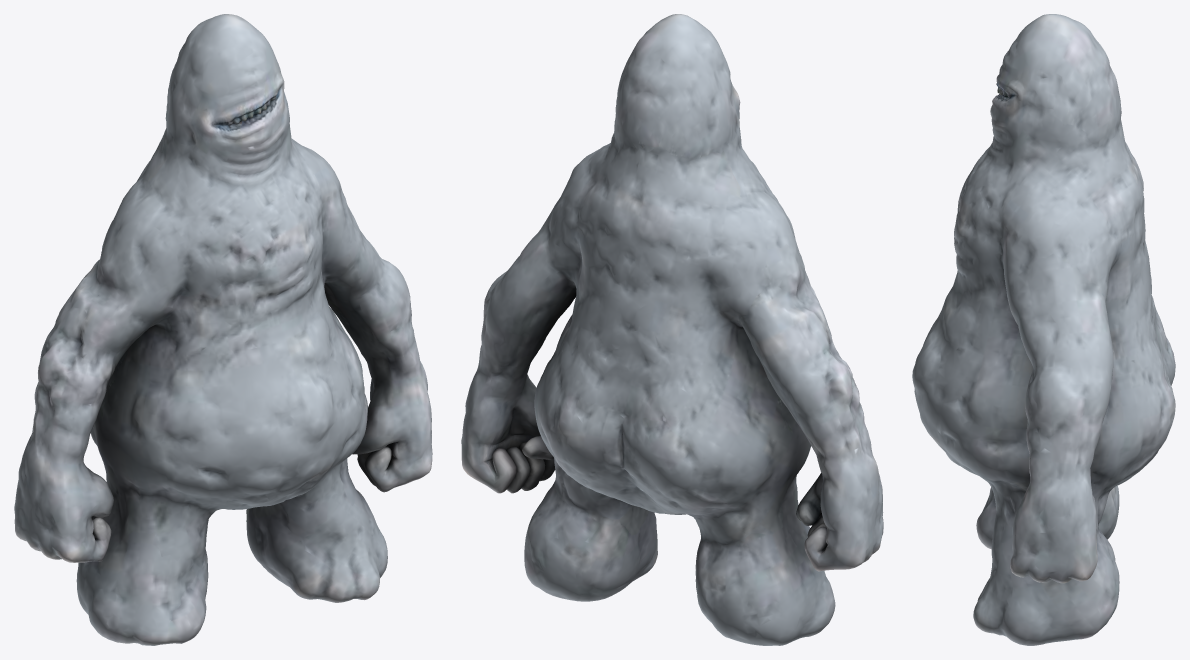
Rendered from MZ4250 - Snow Golem.glb.
3 views of the same model, side by side, from view 1: azimuth 30°, elevation 25°; view 2: azimuth 150°, elevation 25°; view 3: azimuth 270°, elevation 25° (orthographic). The views are drawn at different scales.
Parts seen in each view (by area): view 1: ORGANIC BASE SPHERE.001; view 2: ORGANIC BASE SPHERE.001; view 3: ORGANIC BASE SPHERE.001.
Boxes of the visible parts, x1,y1,x2,y2 form: ORGANIC BASE SPHERE.001: [14, 14, 432, 645]; ORGANIC BASE SPHERE.001: [461, 14, 883, 645]; ORGANIC BASE SPHERE.001: [912, 14, 1175, 645].
Bounding box in the file's own units: 78.01 × 110 × 45.87.
1 material, 1 textured.
